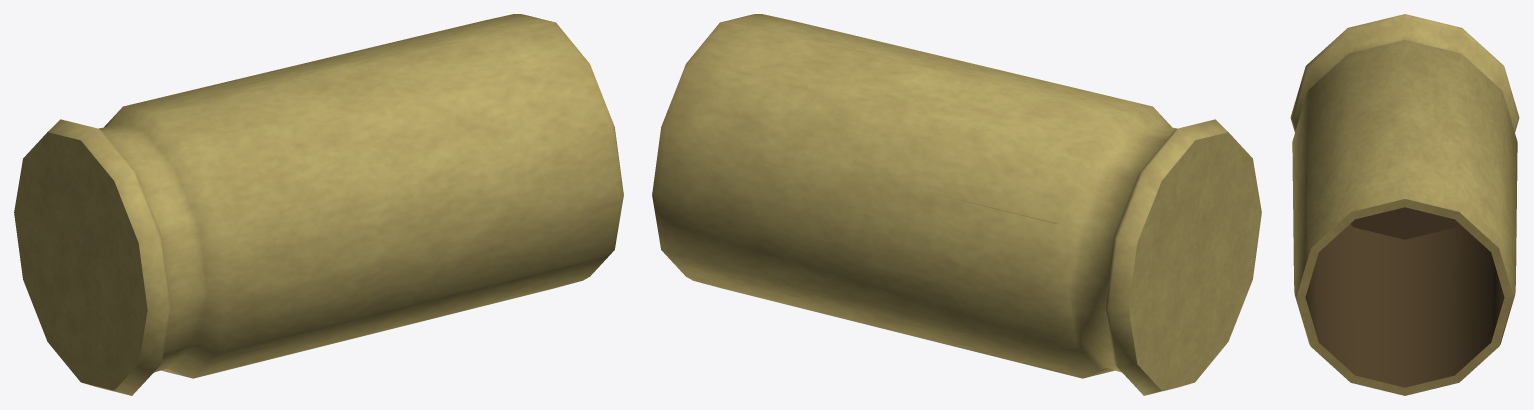
File: X16-Spent-Casing.fbx
The picture shows the model from 3 angles, left to right: view 1: azimuth 30°, elevation 25°; view 2: azimuth 150°, elevation 25°; view 3: azimuth 270°, elevation 25°; orthographic projection. The views are drawn at different scales.
Parts seen in each view (by area): view 1: X16_SpentCasing; view 2: X16_SpentCasing; view 3: X16_SpentCasing.
Part boxes in pixels (left/top/right/bottom): X16_SpentCasing: left=14, top=14, right=623, bottom=395; X16_SpentCasing: left=652, top=14, right=1261, bottom=395; X16_SpentCasing: left=1290, top=14, right=1519, bottom=395.
Size of the model in its own units: 9.88 by 5.15 by 5.15.
Materials: 1 (1 with a texture image).
